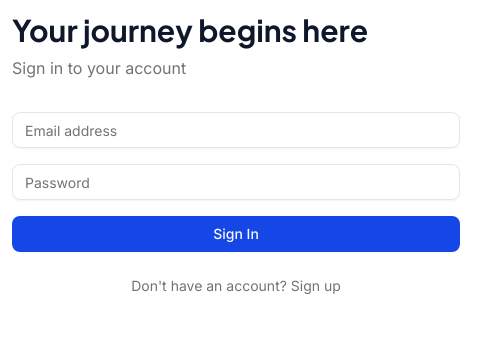
it: LoginPage › shows error for 423 (account locked)
Step 1. Type "locked@example.com" into the field with placeholder "Email address" → point(236, 130), box x1=12 y1=112 x2=460 y2=148
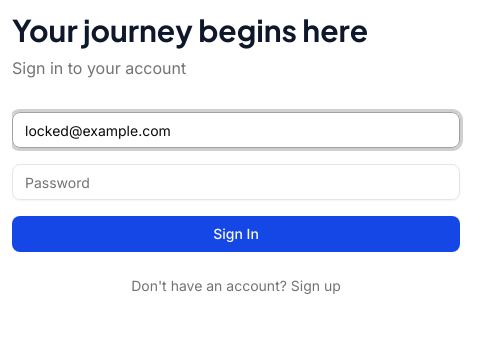
Step 2. Type "any" into the password field with placeholder "Password" → point(236, 182), box x1=12 y1=164 x2=460 y2=200
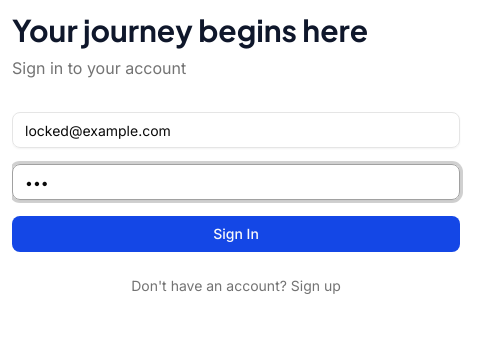
Step 3. Click the button "Sign In" → point(236, 234), box x1=12 y1=216 x2=460 y2=252
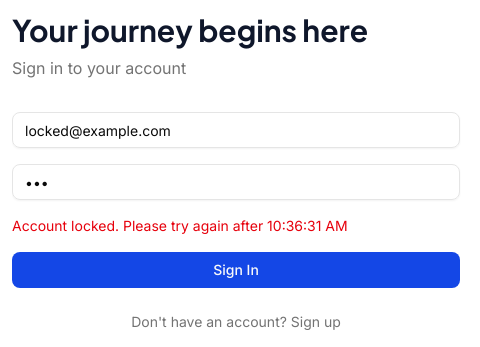
Check: the message shows "Account locked", box x1=12 y1=217 x2=348 y2=234
